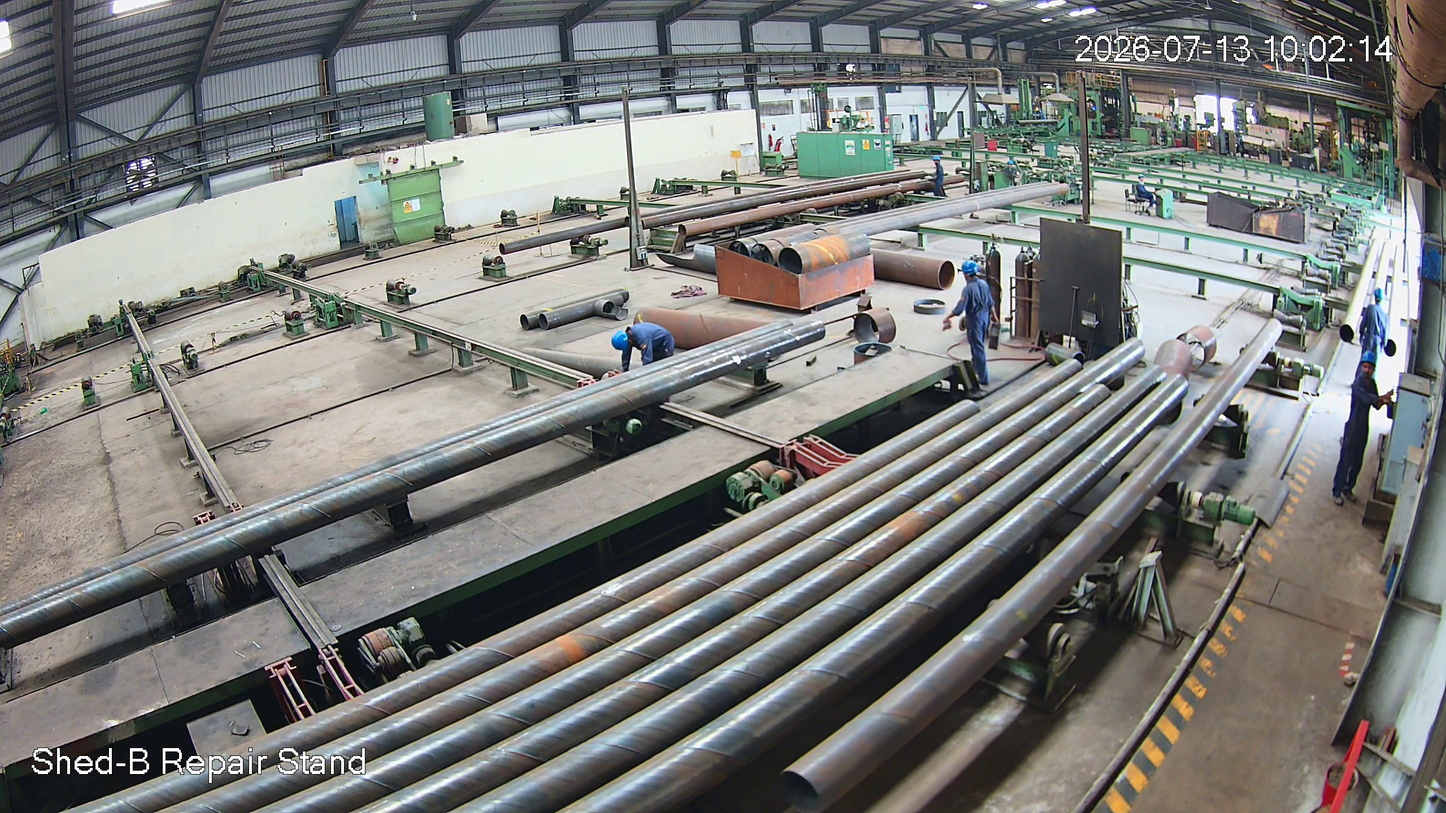Helmet: (1357, 349, 1382, 383), (960, 257, 985, 286), (610, 329, 636, 352), (1369, 287, 1390, 312)
Person: (1327, 353, 1384, 515), (955, 260, 1001, 383), (1351, 289, 1393, 390), (612, 323, 674, 377)
